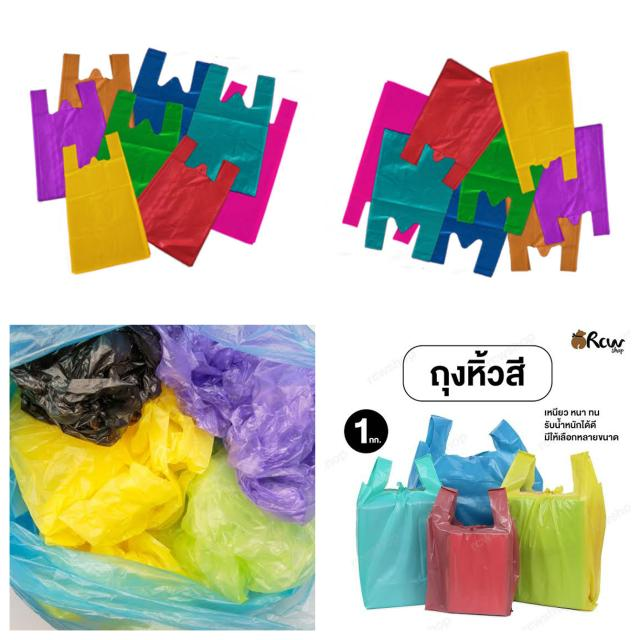Single-layer Plastic: (10, 471, 315, 630), (10, 388, 214, 572), (156, 325, 315, 522), (179, 450, 315, 602), (11, 328, 161, 446), (502, 451, 605, 610), (400, 59, 502, 190), (138, 136, 240, 266), (356, 455, 441, 608), (62, 132, 150, 274), (212, 99, 298, 244), (342, 81, 428, 226), (490, 51, 578, 192), (415, 415, 526, 526), (425, 488, 519, 616), (186, 64, 275, 196), (365, 129, 454, 261), (30, 81, 106, 201), (534, 124, 610, 244), (105, 90, 182, 196), (458, 129, 535, 235), (430, 188, 506, 276), (134, 49, 209, 138), (59, 54, 132, 121), (508, 204, 581, 271), (394, 226, 416, 244)
